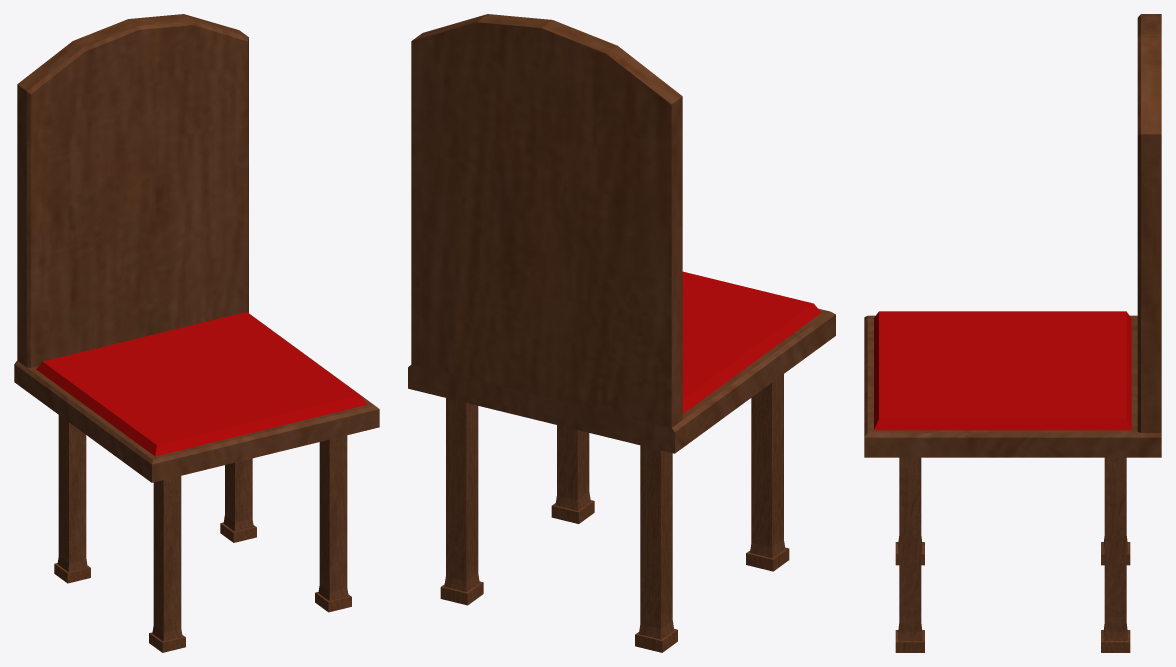
Rendered from Wooden Chair.fbx.
3 renders of one model, left to right at view 1: azimuth 30°, elevation 25°; view 2: azimuth 150°, elevation 25°; view 3: azimuth 270°, elevation 25°, orthographic. The views are drawn at different scales.
Visible parts, largest first — view 1: Chairseatback, Cushion, Leg_4, Leg_1, Leg_3, Leg_2; view 2: Chairseatback, Cushion, Leg_2, Leg_3, Leg_4, Leg_1; view 3: Cushion, Chairseatback, Leg_1, Leg_2.
Part boxes in pixels (box(x1,y1,x2,y2)): Chairseatback: box(14, 14, 379, 482); Cushion: box(36, 312, 366, 456); Leg_4: box(149, 476, 185, 652); Leg_1: box(315, 435, 351, 612); Leg_3: box(54, 415, 90, 583); Leg_2: box(220, 458, 256, 542); Chairseatback: box(408, 14, 835, 453); Cushion: box(682, 271, 821, 413); Leg_2: box(440, 398, 483, 605); Leg_3: box(635, 445, 677, 652); Leg_4: box(746, 374, 789, 571); Leg_1: box(551, 425, 594, 523); Cushion: box(874, 311, 1131, 430); Chairseatback: box(864, 14, 1161, 457); Leg_1: box(895, 457, 924, 652); Leg_2: box(1101, 457, 1130, 652).
Bounding box in the file's own units: 56.1 × 123 × 58.66.
